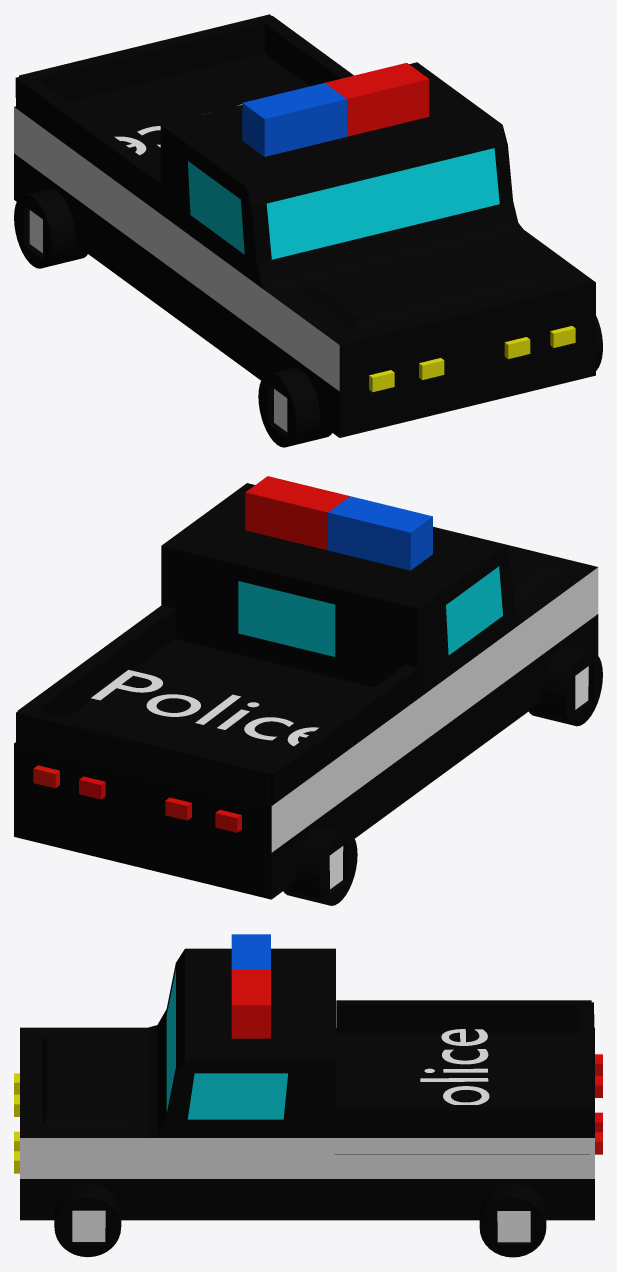
Rendered from police pick-up truck (redesign).fbx.
The picture shows the model from 3 angles, top to bottom: view 1: azimuth 30°, elevation 25°; view 2: azimuth 150°, elevation 25°; view 3: azimuth 270°, elevation 25°; orthographic projection. The views are drawn at different scales.
Visible parts, largest first — view 1: Cube, Cube.012, Cube.003, Cube.001, Cylinder, Cylinder.003, Cube.002; view 2: Cube, Cube.003, Cube.001, Cube.002, Cylinder.003, Cylinder, Text, Cube.012; view 3: Cube, Cube.002, Cube.001, Cube.012, Cylinder.001, Cylinder.002, Text, Cube.003.
Part boxes in pixels (x1,y1,x2,y2): Cube: (14, 53, 595, 437); Cube.012: (302, 241, 554, 329); Cube.003: (19, 14, 271, 101); Cube.001: (15, 74, 160, 213); Cylinder: (258, 367, 331, 447); Cylinder.003: (14, 188, 87, 268); Cube.002: (264, 16, 353, 86); Cube: (14, 476, 598, 899); Cube.003: (16, 710, 272, 804); Cube.001: (261, 664, 418, 804); Cube.002: (18, 605, 175, 717); Cylinder.003: (283, 825, 357, 905); Cylinder: (529, 645, 602, 726); Text: (91, 670, 318, 746); Cube.012: (508, 554, 559, 602); Cube: (20, 934, 594, 1220); Cube.002: (335, 1105, 589, 1154); Cube.001: (336, 1000, 591, 1033); Cube.012: (42, 1037, 131, 1125); Cylinder.001: (479, 1184, 546, 1257); Cylinder.002: (54, 1184, 121, 1257); Text: (420, 1029, 489, 1104); Cube.003: (580, 1002, 594, 1137).
Size of the model in its own units: 444 by 345 by 832.
